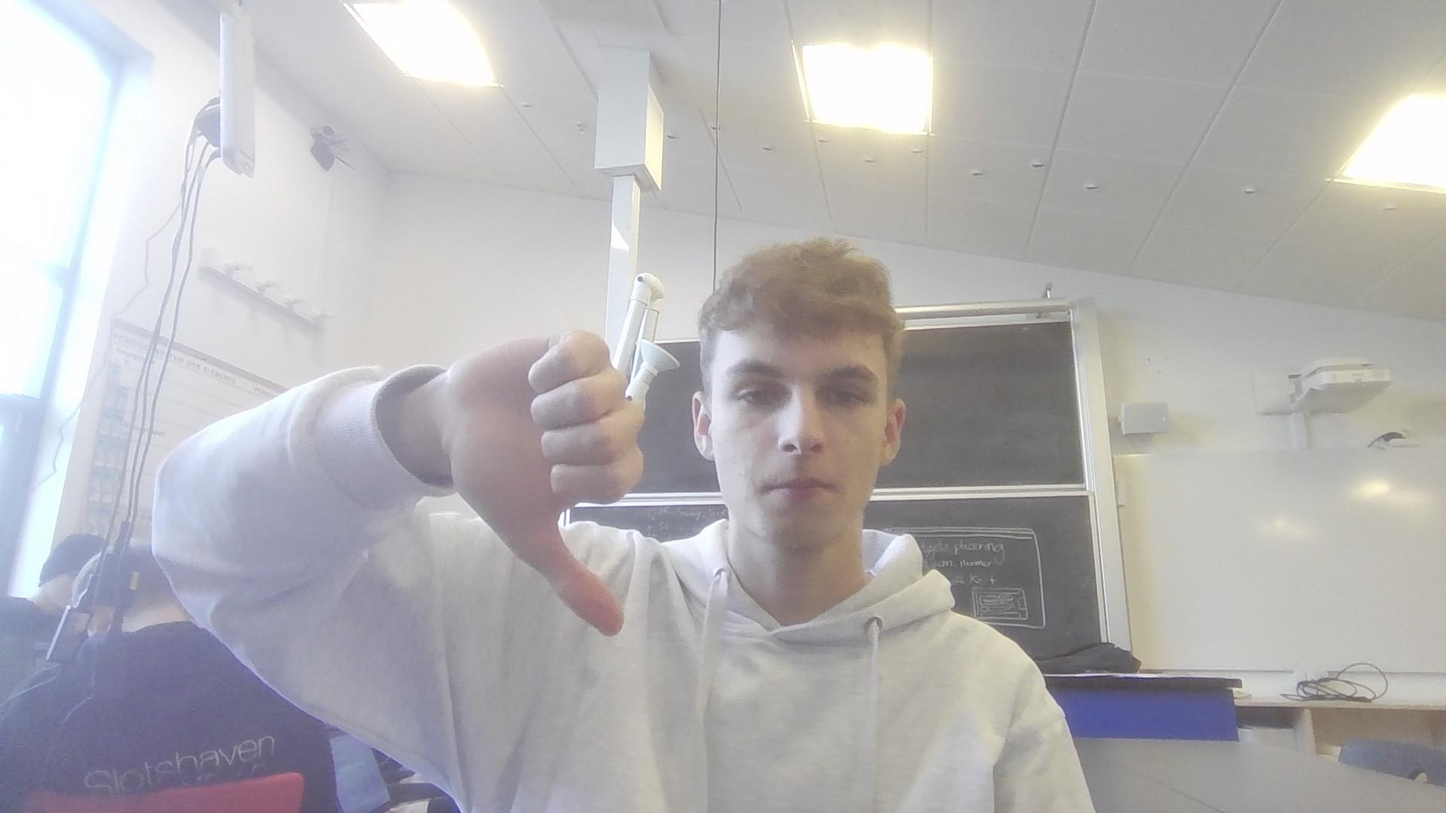thumbs down: (413, 328, 646, 642)
